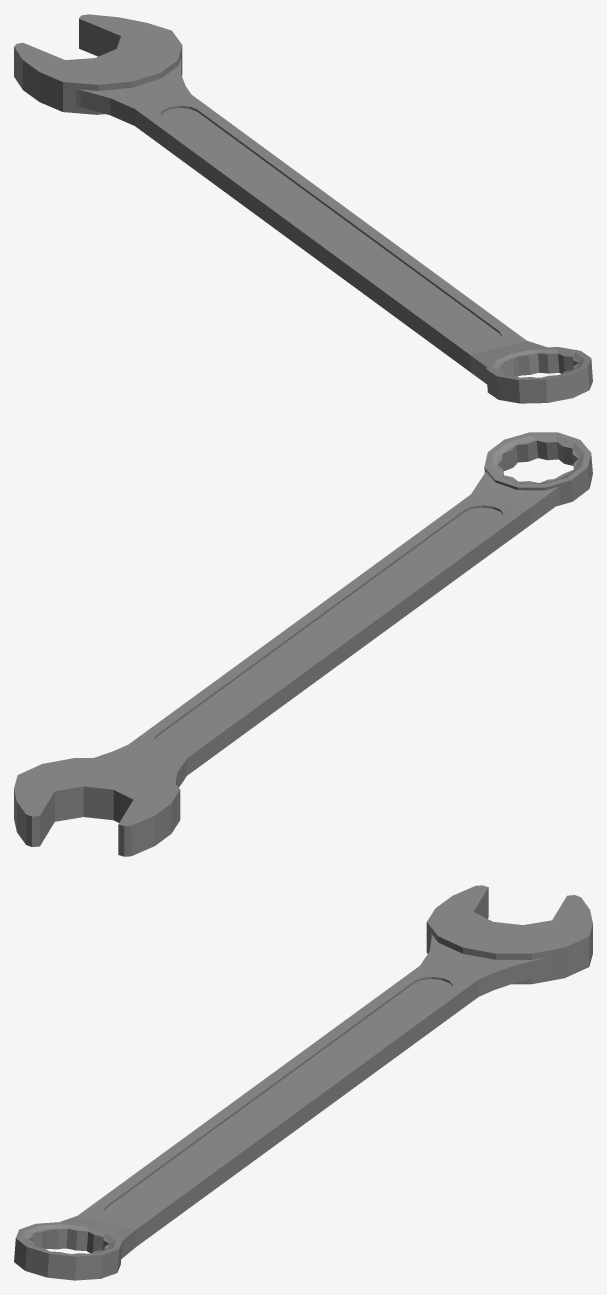
The model's file is Wrench.fbx.
The picture shows the model from 3 angles, top to bottom: view 1: azimuth 30°, elevation 25°; view 2: azimuth 150°, elevation 25°; view 3: azimuth 330°, elevation 25°; orthographic projection.
Visible parts, largest first — view 1: Wrench; view 2: Wrench; view 3: Wrench.
Part boxes in pixels (x1,y1,x2,y2): Wrench: (14, 14, 592, 403); Wrench: (14, 432, 592, 856); Wrench: (14, 885, 592, 1280).
Size of the model in its own units: 0.0526 by 0.0151 by 0.3246.
Materials: 1 (1 with a texture image).
